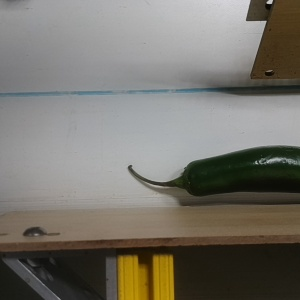Cut Point: (168, 157, 210, 203)
